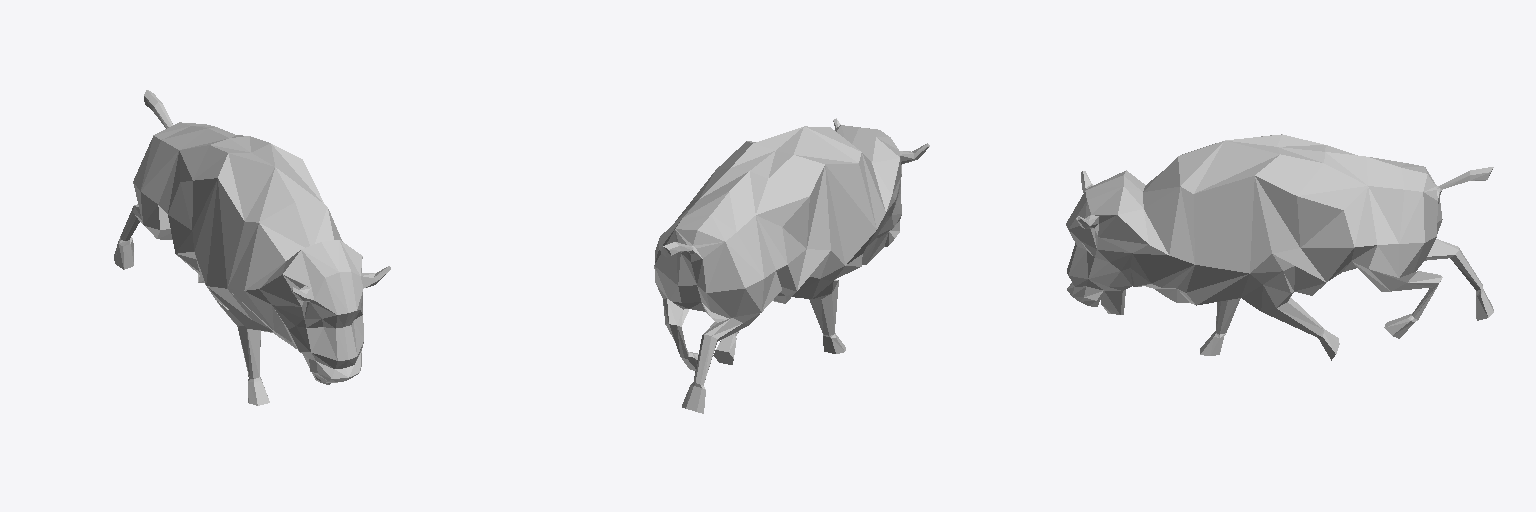
File: bison_014.obj
The picture shows the model from 3 angles: view 1: azimuth 30°, elevation 25°; view 2: azimuth 150°, elevation 25°; view 3: azimuth 270°, elevation 25°; orthographic projection.
Parts seen in each view (by area): view 1: comp_bison_rig:bison_body comp_bison_rig:bison; view 2: comp_bison_rig:bison_body comp_bison_rig:bison; view 3: comp_bison_rig:bison_body comp_bison_rig:bison.
Part boxes in pixels (bbox=[...]): comp_bison_rig:bison_body comp_bison_rig:bison: bbox=[114, 90, 390, 405]; comp_bison_rig:bison_body comp_bison_rig:bison: bbox=[654, 118, 929, 413]; comp_bison_rig:bison_body comp_bison_rig:bison: bbox=[1066, 134, 1493, 360].
Size of the model in its own units: 119 by 184 by 321.